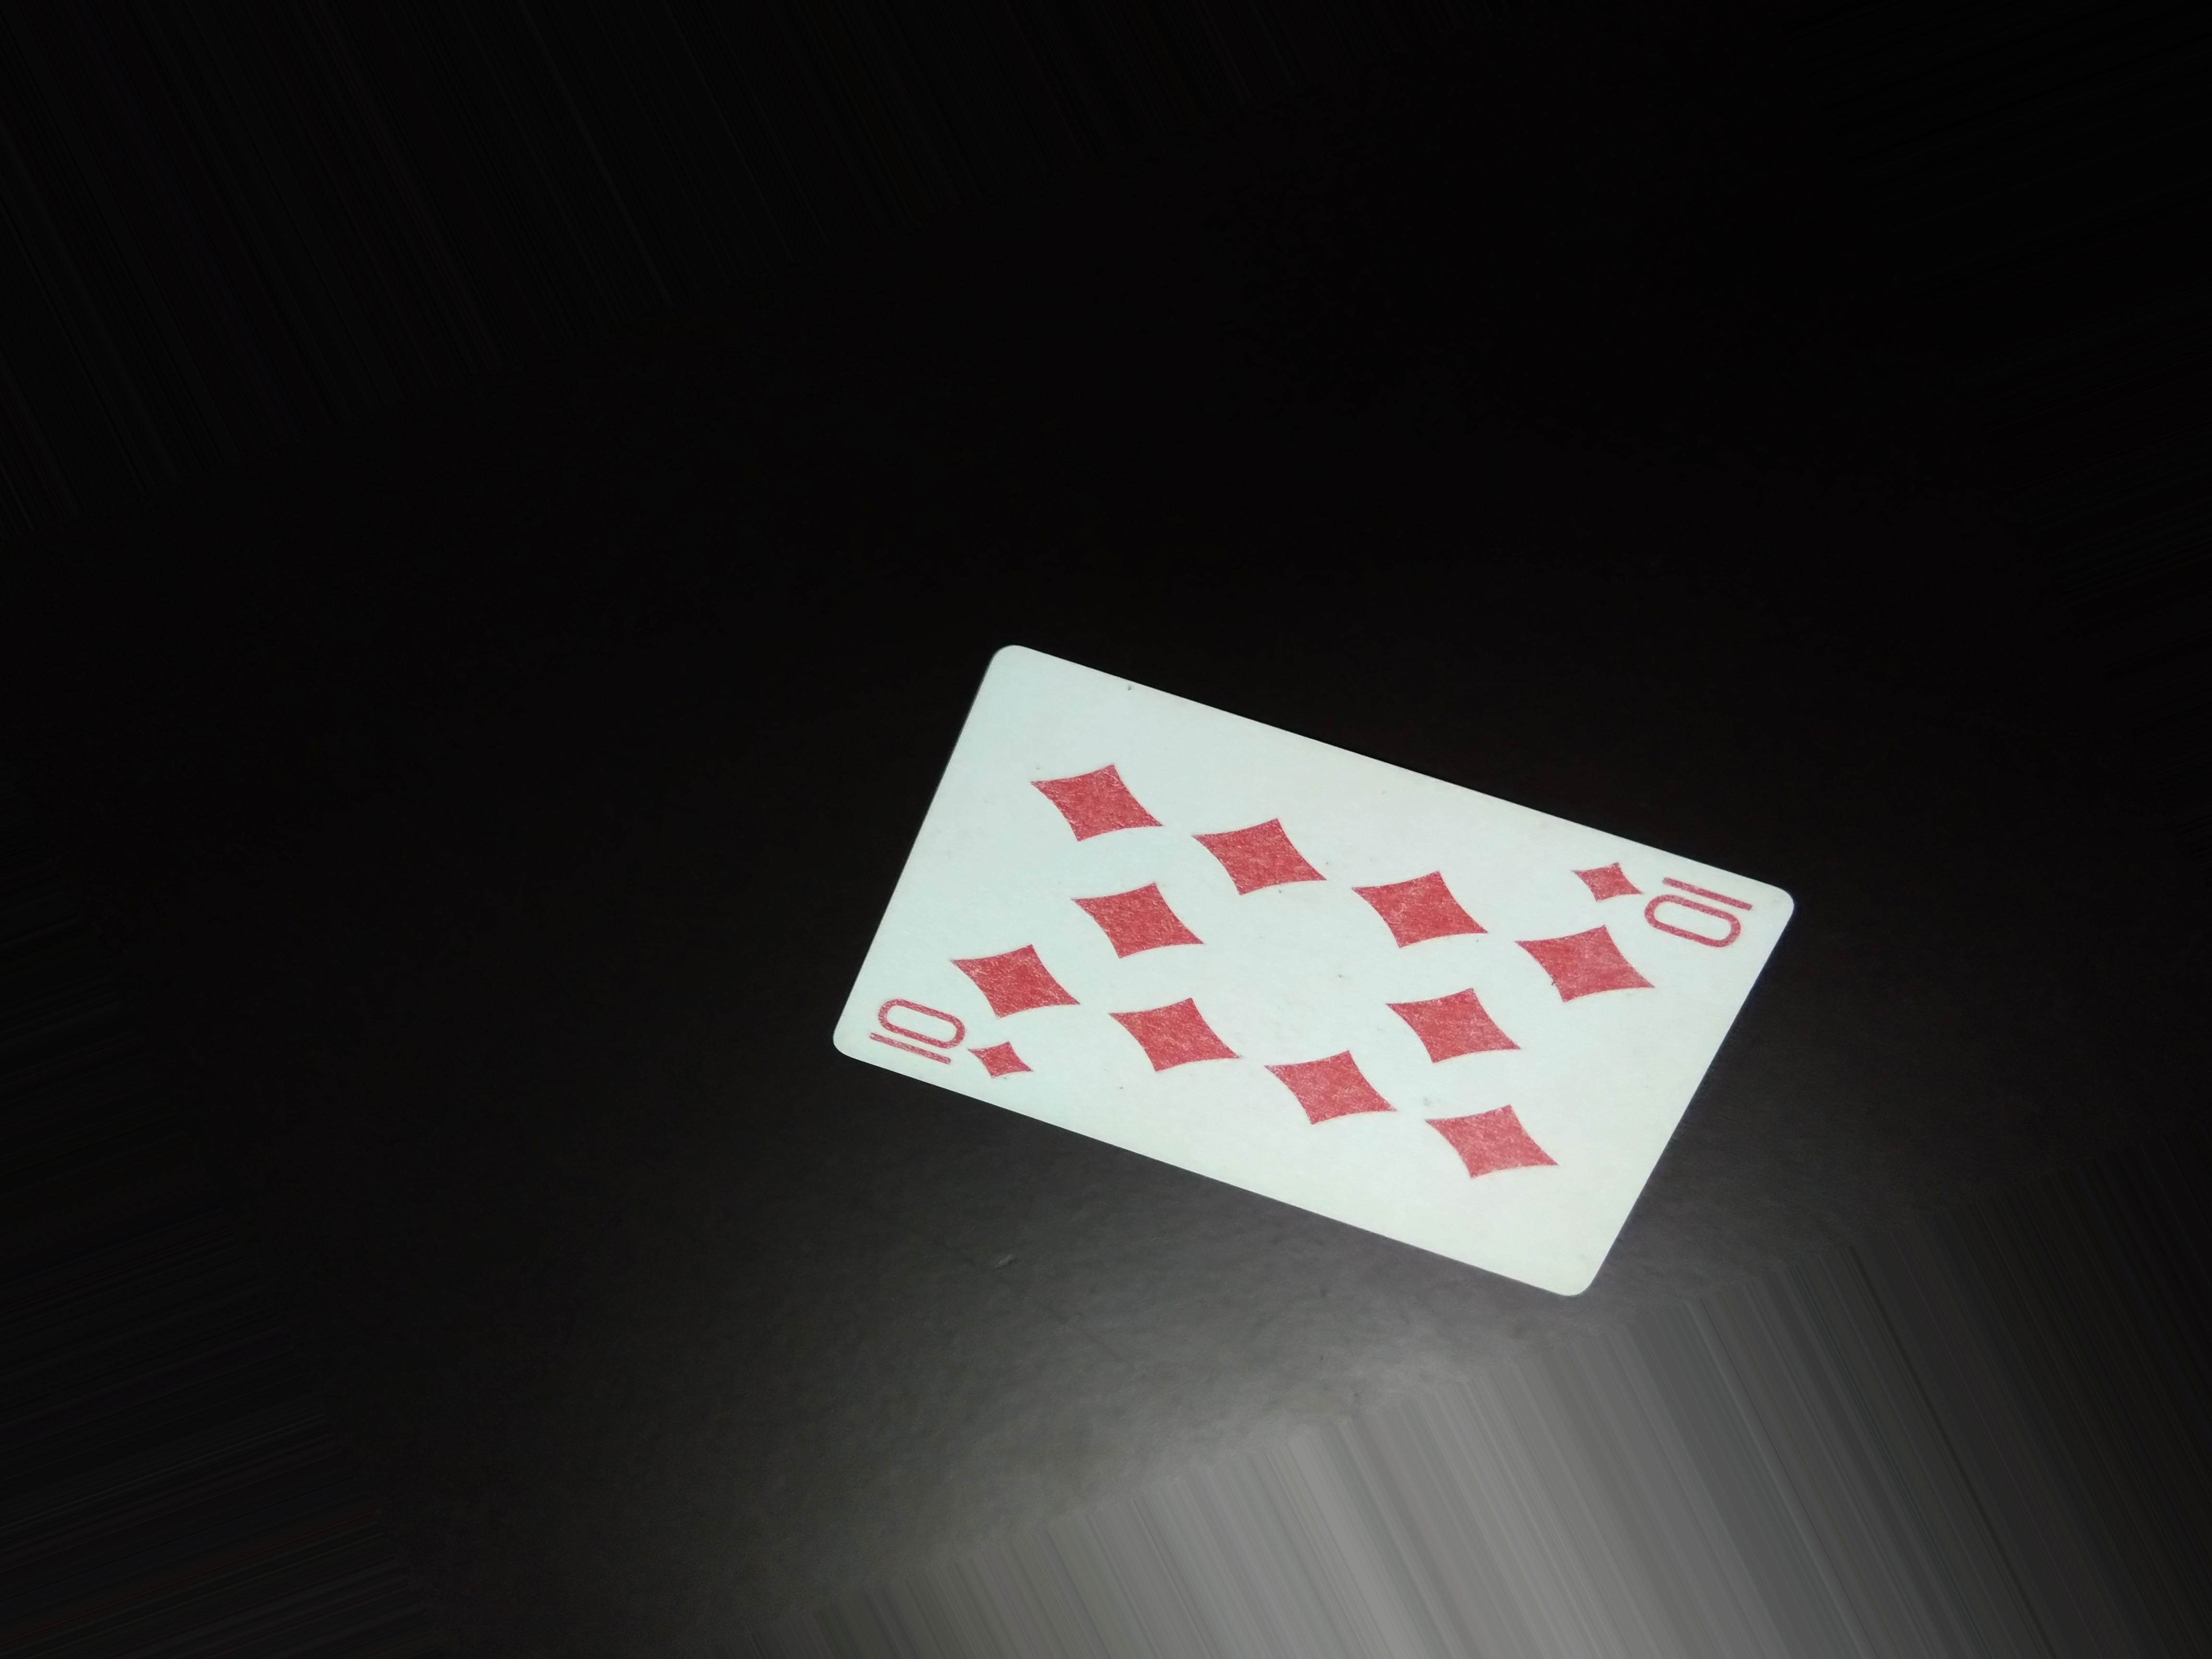10D: (1573, 847, 1766, 951)
